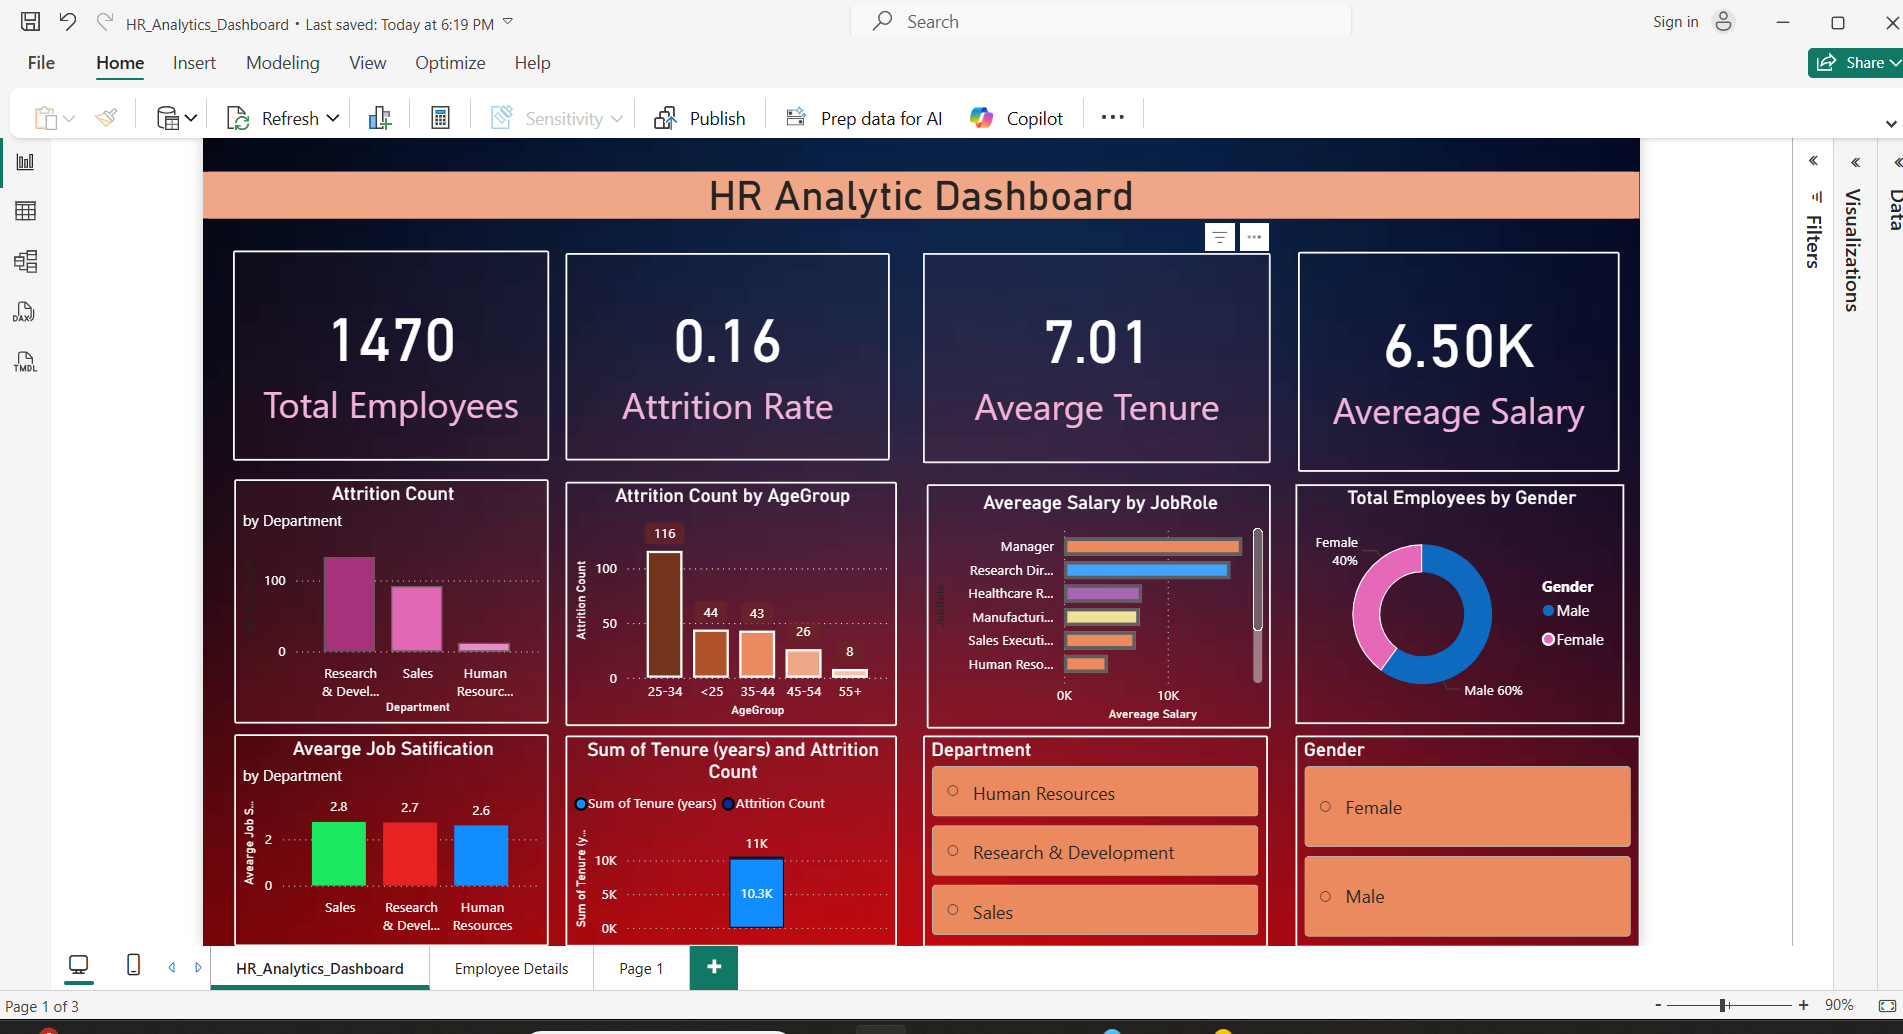

The dashboard page shown, as its layout file describes it:
{"tool":"powerbi","page":{"name":"HR_Analytics_Dashboard","canvas":[1280,720],"ordinal":0},"visuals":[{"type":"clusteredColumnChart","fields":{"Category":["HR_Analytics.Department"],"Y":["HR_Analytics.Attrition Count"]},"box":[28.3,304.3,279.7,217.3],"z":0},{"type":"card","fields":{"Values":["HR_Analytics.Total Employees"]},"box":[26.5,100.2,281.6,187.1],"z":1000},{"type":"card","fields":{"Values":["HR_Analytics.Avearge Tenure"]},"box":[640.6,102,309.9,187.1],"z":2000},{"type":"card","fields":{"Values":["HR_Analytics.Avereage Salary"]},"box":[974.8,101.5,286.2,195.7],"z":3000},{"type":"card","fields":{"Values":["HR_Analytics.Attrition Rate"]},"box":[323.2,102,289.1,185.2],"z":4000},{"type":"textbox","title":"HR Analytic Dashboard","box":[0,30.2,1279.4,41.6],"z":5000},{"type":"lineClusteredColumnComboChart","fields":{"Category":["HR_Analytics.AgeGroup"],"Y":["HR_Analytics.Attrition Count"]},"box":[323.2,306.1,294.8,217.3],"z":6000},{"type":"clusteredBarChart","fields":{"Category":["HR_Analytics.JobRole"],"Y":["HR_Analytics.Avereage Salary"]},"box":[644.3,308.3,306.5,217.8],"z":7000},{"type":"donutChart","fields":{"Category":["HR_Analytics.Gender"],"Y":["HR_Analytics.Total Employees"]},"box":[973.2,308,292.9,213.5],"z":8000},{"type":"clusteredColumnChart","fields":{"Category":["HR_Analytics.Department"],"Y":["HR_Analytics.Avearge Job Satification"]},"box":[28,531,280,189],"z":9000},{"type":"columnChart","fields":{"Y":["Sum(HR_Analytics.Tenure (years))","HR_Analytics.Attrition Count"]},"box":[323.1,531.7,295.4,188.3],"z":10000},{"type":"advancedSlicerVisual","fields":{"Values":["HR_Analytics.Department"]},"box":[640.9,531.9,307.4,188.7],"z":11000},{"type":"advancedSlicerVisual","fields":{"Values":["HR_Analytics.Gender"]},"box":[972.7,531.9,307.4,188.7],"z":12000}]}

Visuals, with their boxes on the page's 1280x720 design canvas (x1, y1, x2, y2). These are canvas units, not pixel positions in the 1903x1034 screenshot, which may show the page scaled, cropped or inside an application window:
clusteredColumnChart - HR_Analytics.Department x HR_Analytics.Attrition Count: {"x1": 28, "y1": 304, "x2": 308, "y2": 522}
card - HR_Analytics.Total Employees: {"x1": 26, "y1": 100, "x2": 308, "y2": 287}
card - HR_Analytics.Avearge Tenure: {"x1": 641, "y1": 102, "x2": 950, "y2": 289}
card - HR_Analytics.Avereage Salary: {"x1": 975, "y1": 102, "x2": 1261, "y2": 297}
card - HR_Analytics.Attrition Rate: {"x1": 323, "y1": 102, "x2": 612, "y2": 287}
"HR Analytic Dashboard" textbox: {"x1": 0, "y1": 30, "x2": 1279, "y2": 72}
lineClusteredColumnComboChart - HR_Analytics.AgeGroup x HR_Analytics.Attrition Count: {"x1": 323, "y1": 306, "x2": 618, "y2": 523}
clusteredBarChart - HR_Analytics.JobRole x HR_Analytics.Avereage Salary: {"x1": 644, "y1": 308, "x2": 951, "y2": 526}
donutChart - HR_Analytics.Gender x HR_Analytics.Total Employees: {"x1": 973, "y1": 308, "x2": 1266, "y2": 522}
clusteredColumnChart - HR_Analytics.Department x HR_Analytics.Avearge Job Satification: {"x1": 28, "y1": 531, "x2": 308, "y2": 720}
columnChart - Sum(HR_Analytics.Tenure (years)) x HR_Analytics.Attrition Count: {"x1": 323, "y1": 532, "x2": 618, "y2": 720}
advancedSlicerVisual - HR_Analytics.Department: {"x1": 641, "y1": 532, "x2": 948, "y2": 721}
advancedSlicerVisual - HR_Analytics.Gender: {"x1": 973, "y1": 532, "x2": 1280, "y2": 721}
